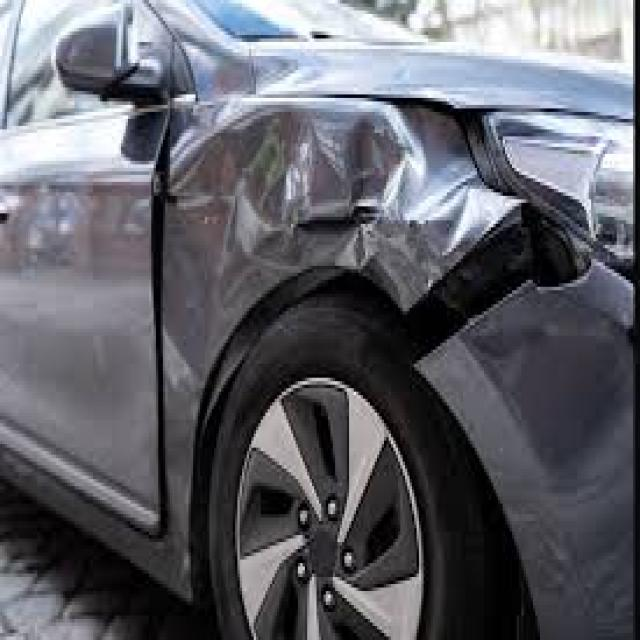Dent: (169, 64, 619, 378)
